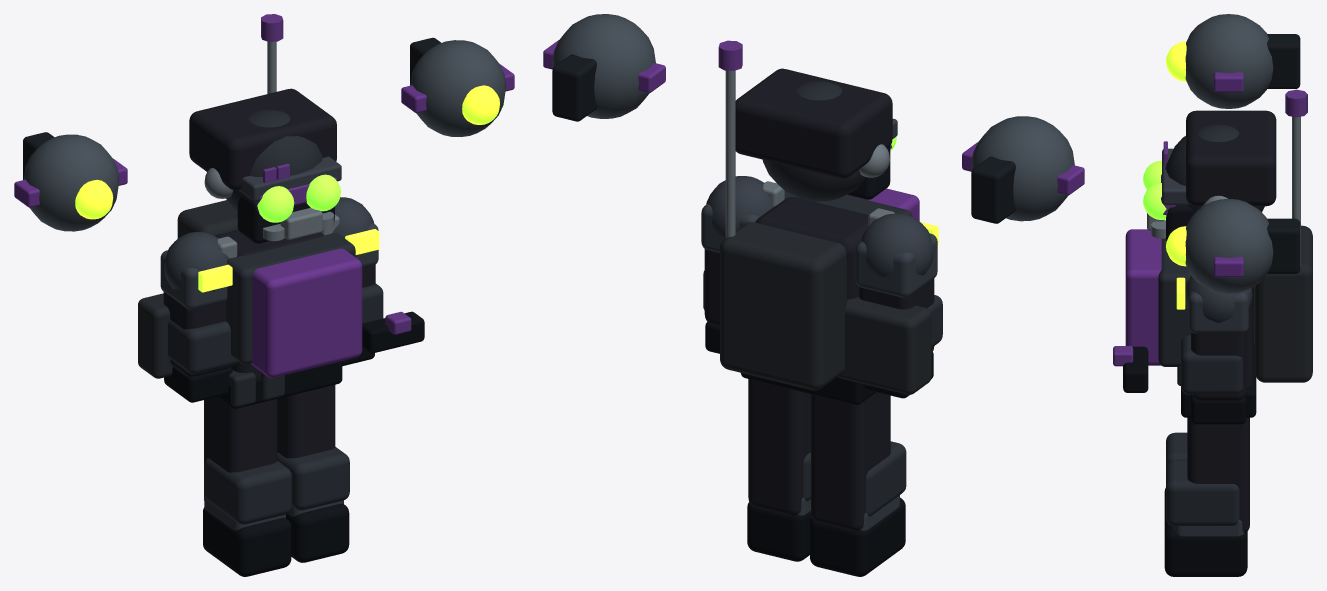
File: aegis_l02.glb
The picture shows the model from 3 angles, left to right: view 1: azimuth 30°, elevation 25°; view 2: azimuth 150°, elevation 25°; view 3: azimuth 270°, elevation 25°; orthographic projection. The views are drawn at different scales.
Parts seen in each view (by area): view 1: control_vest, interceptor_core (×2), trouser (×2), hood, shaped_knee_guard (×2), boot (×2), segmented_vest, forearm_plate (×2), shoulder_joint (×2), rounded_helmet, map_satchel, interceptor_eye (×2) (+15 smaller); view 2: field_pack, trouser (×2), interceptor_core (×2), hood, map_satchel, boot (×2), shoulder_joint (×2), interceptor_tail (×2), body, shoulder_plate (×2), rounded_helmet, sleeve (×2) (+8 smaller); view 3: interceptor_core (×2), hood, field_pack, trouser, control_vest, shaped_knee_guard (×2), boot, interceptor_tail (×2), segmented_vest, forearm_plate, sleeve, shoulder_plate (+17 smaller).
Boxes of the visible parts, <box> form: control_vest: <box>251,248,362,377</box>; interceptor_core (×2): <box>23,40,506,231</box>; trouser (×2): <box>204,385,335,500</box>; hood: <box>189,88,336,190</box>; shaped_knee_guard (×2): <box>204,447,349,524</box>; boot (×2): <box>203,503,349,576</box>; segmented_vest: <box>226,233,355,364</box>; forearm_plate (×2): <box>168,283,383,374</box>; shoulder_joint (×2): <box>164,197,374,291</box>; rounded_helmet: <box>226,110,322,210</box>; map_satchel: <box>138,293,172,378</box>; interceptor_eye (×2): <box>75,85,499,219</box>; field_pack: <box>720,222,846,390</box>; trouser (×2): <box>748,379,890,531</box>; interceptor_core (×2): <box>552,14,1074,221</box>; hood: <box>735,68,892,178</box>; map_satchel: <box>838,296,931,394</box>; boot (×2): <box>747,497,905,576</box>; shoulder_joint (×2): <box>706,176,933,277</box>; interceptor_tail (×2): <box>552,54,1015,223</box>; body: <box>755,197,868,299</box>; shoulder_plate (×2): <box>701,203,937,297</box>; rounded_helmet: <box>762,81,866,201</box>; sleeve (×2): <box>704,249,934,352</box>; interceptor_core (×2): <box>1185,14,1273,293</box>; hood: <box>1186,110,1276,206</box>; field_pack: <box>1255,225,1312,382</box>; trouser: <box>1187,417,1249,532</box>; control_vest: <box>1125,229,1161,365</box>; shaped_knee_guard (×2): <box>1166,432,1239,526</box>; boot: <box>1164,515,1247,576</box>; interceptor_tail (×2): <box>1267,34,1300,273</box>; segmented_vest: <box>1158,238,1190,366</box>; forearm_plate: <box>1181,335,1242,394</box>; sleeve: <box>1191,332,1246,400</box>; shoulder_plate: <box>1188,291,1248,333</box>.
Size of the model in its own units: 2.19 by 2.1 by 0.795.
